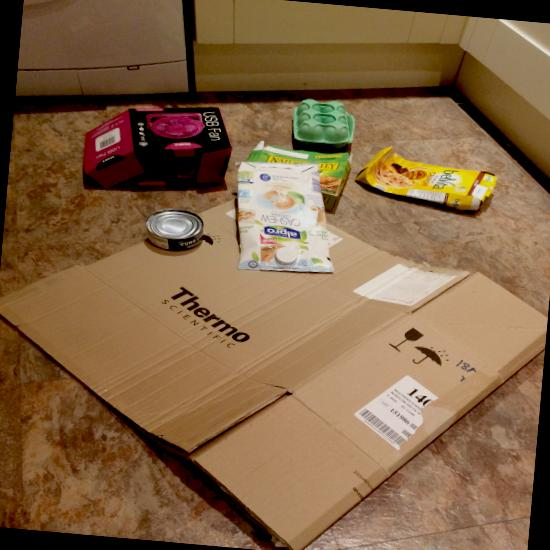Corrugated carton: (0, 198, 547, 550)
Drink carton: (237, 161, 333, 272)
Egg carton: (292, 99, 354, 150)
Food Can: (145, 208, 203, 251)
Other carton: (83, 107, 232, 189), (355, 146, 497, 211), (245, 140, 352, 211)
